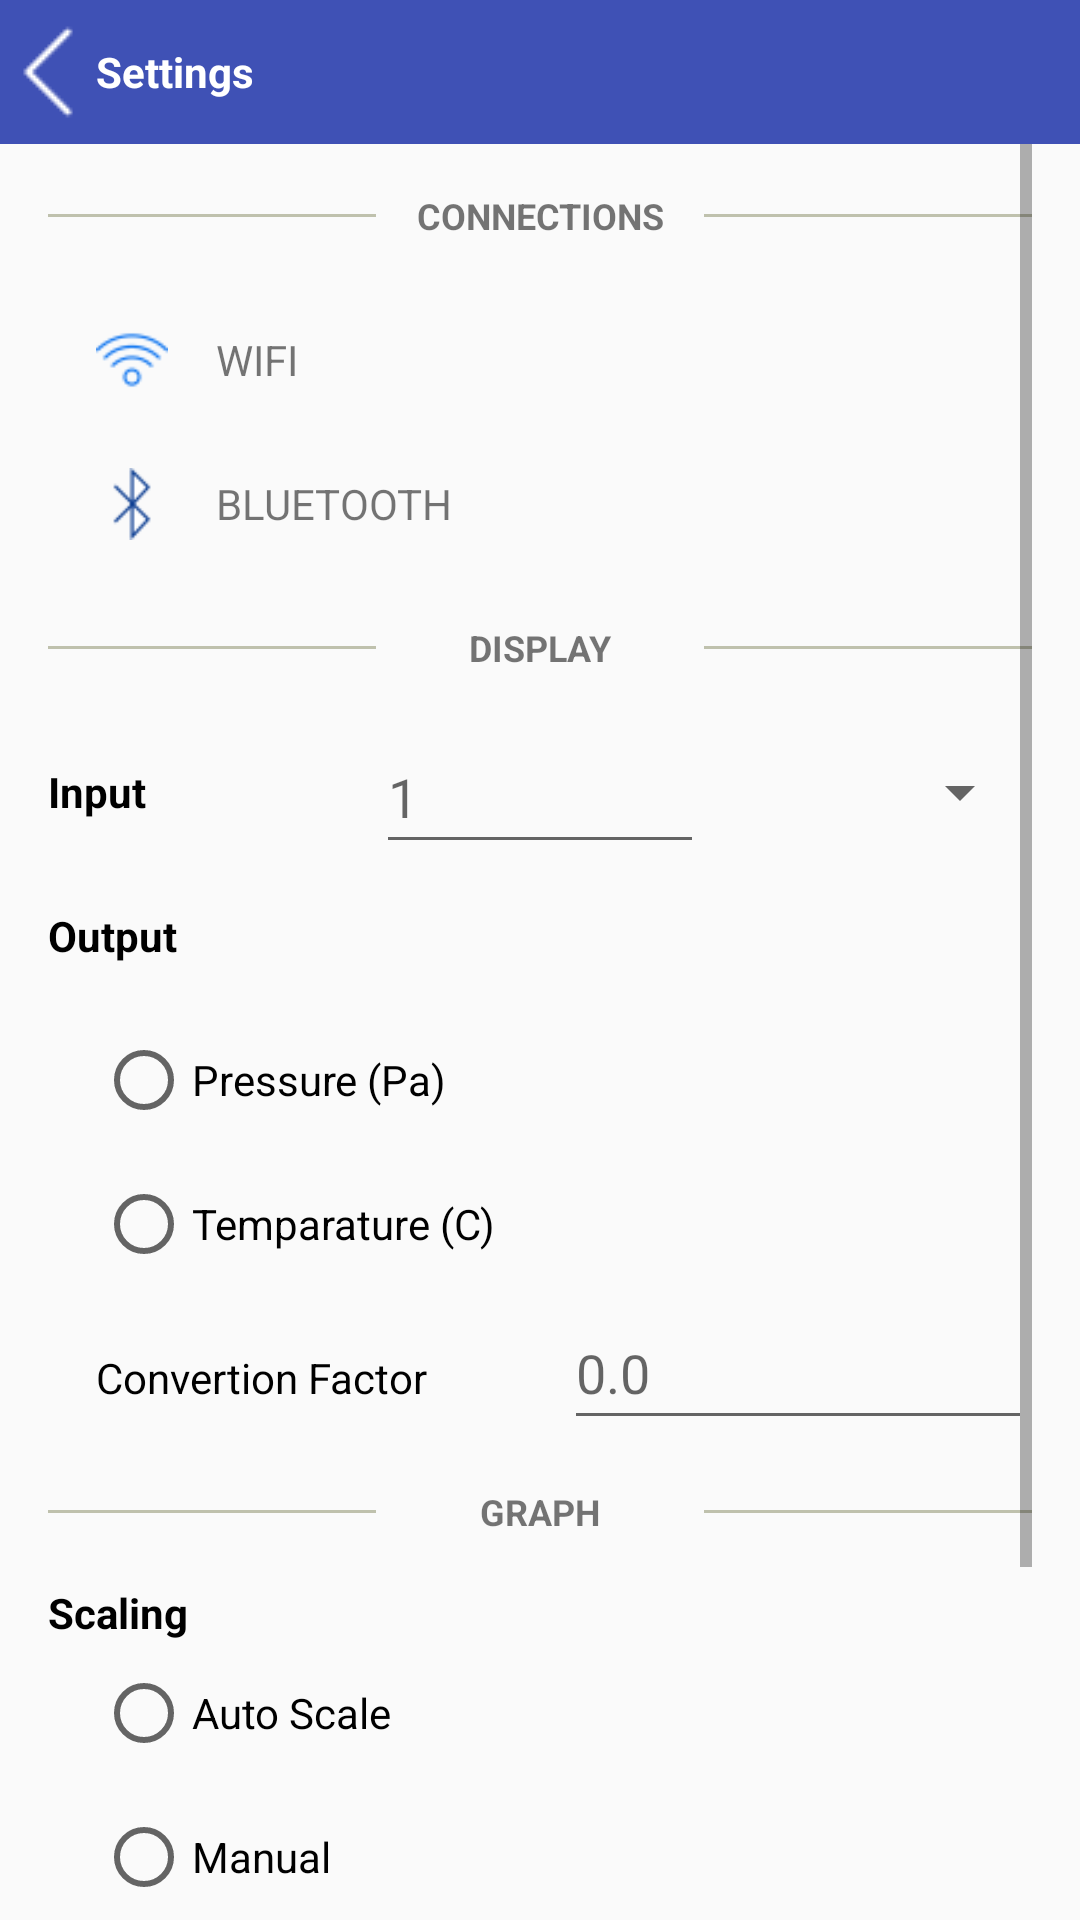

Icons on this 1080 × 1920 Android screen, each with its box as [left=x1, top=y1, right=x2, bottom=y2]:
back: [left=23, top=27, right=73, bottom=117]
